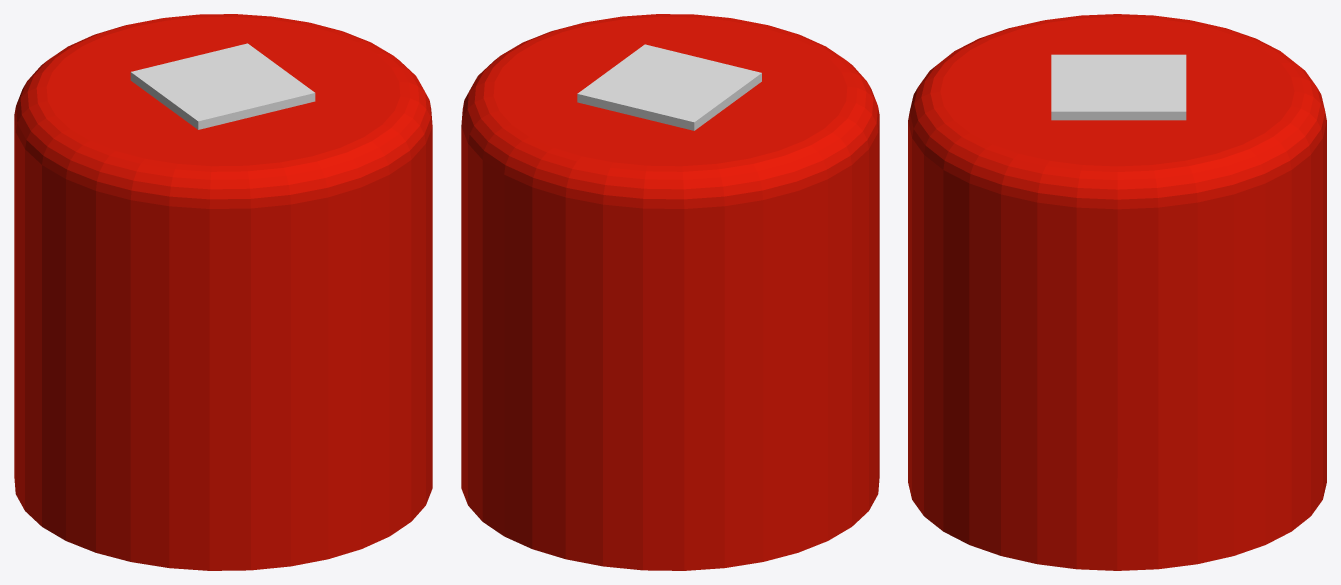
Rendered from button_stop.fbx.
3 views of the same model, side by side, from view 1: azimuth 30°, elevation 25°; view 2: azimuth 150°, elevation 25°; view 3: azimuth 270°, elevation 25° (orthographic).
Visible parts, largest first — view 1: Cylinder.008; view 2: Cylinder.008; view 3: Cylinder.008.
Part boxes in pixels (x1,y1,x2,y2): Cylinder.008: [14, 14, 432, 570]; Cylinder.008: [461, 14, 879, 570]; Cylinder.008: [908, 14, 1326, 570].
Size of the model in its own units: 50.02 by 52.62 by 50.02.
